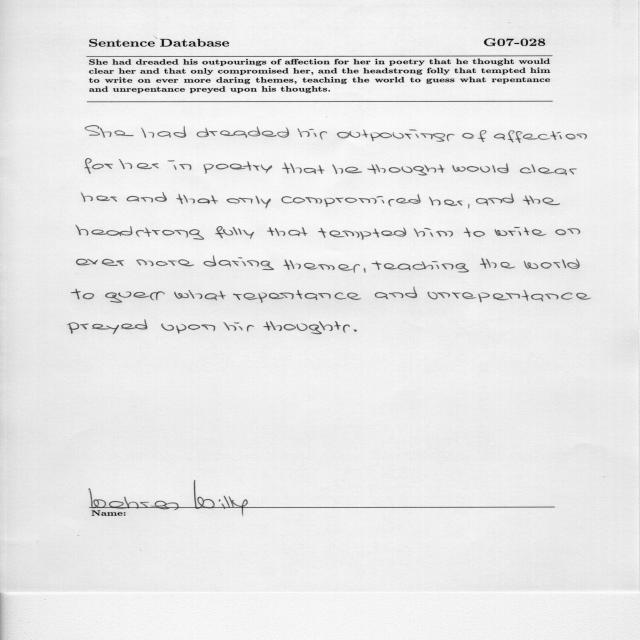word: (427, 290, 591, 302), (76, 225, 204, 240), (282, 194, 421, 207), (233, 290, 361, 303), (337, 129, 454, 142), (494, 130, 587, 143), (68, 319, 148, 334), (318, 227, 406, 240), (263, 321, 350, 334), (197, 126, 289, 138), (372, 261, 469, 272), (204, 256, 274, 270), (367, 164, 445, 176), (204, 161, 272, 174), (105, 291, 165, 303), (520, 164, 577, 175), (227, 196, 271, 209), (283, 259, 335, 270), (452, 163, 509, 173), (524, 259, 580, 269), (141, 126, 186, 138), (161, 324, 215, 334), (85, 126, 134, 137), (174, 290, 226, 300), (215, 226, 254, 239), (282, 162, 324, 174), (375, 287, 417, 299), (476, 193, 514, 206), (495, 227, 547, 236), (85, 159, 113, 174), (176, 194, 218, 204), (126, 193, 167, 203), (136, 260, 194, 267), (119, 159, 159, 169), (480, 258, 515, 269), (523, 196, 560, 206), (267, 227, 307, 236), (414, 228, 453, 237), (77, 259, 125, 266), (82, 193, 118, 202), (298, 129, 327, 140), (429, 197, 463, 206), (462, 130, 487, 142), (332, 164, 362, 174), (224, 322, 254, 332), (338, 264, 366, 273), (168, 160, 192, 170), (71, 289, 94, 299), (464, 228, 485, 238), (556, 228, 581, 235), (353, 329, 357, 332), (468, 204, 470, 209)
